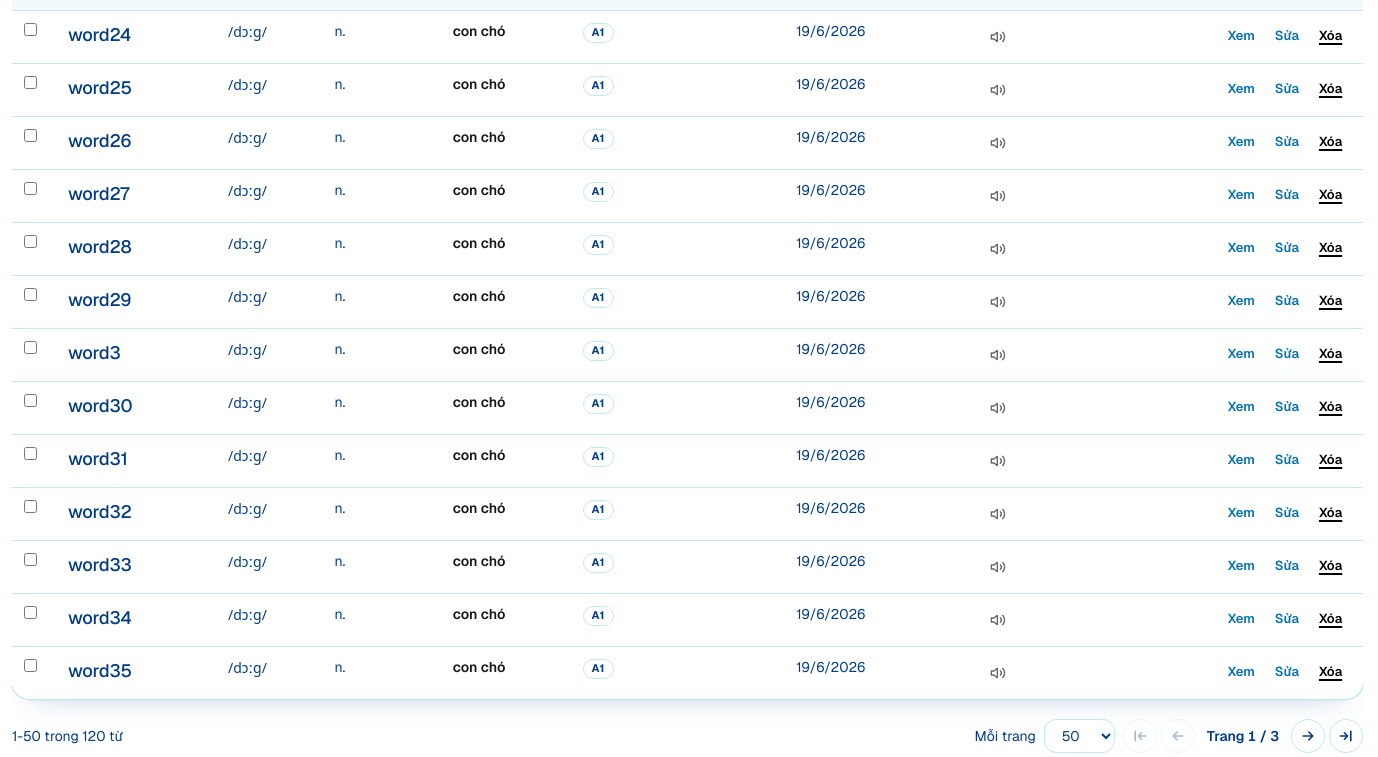
Scenario: WordlistClient › shows more rows per page on request
(page scrolled)
Select "100" in the dropdown named "Số từ mỗi trang": (1079, 736) [1044,719,1115,753]
(page scrolled)
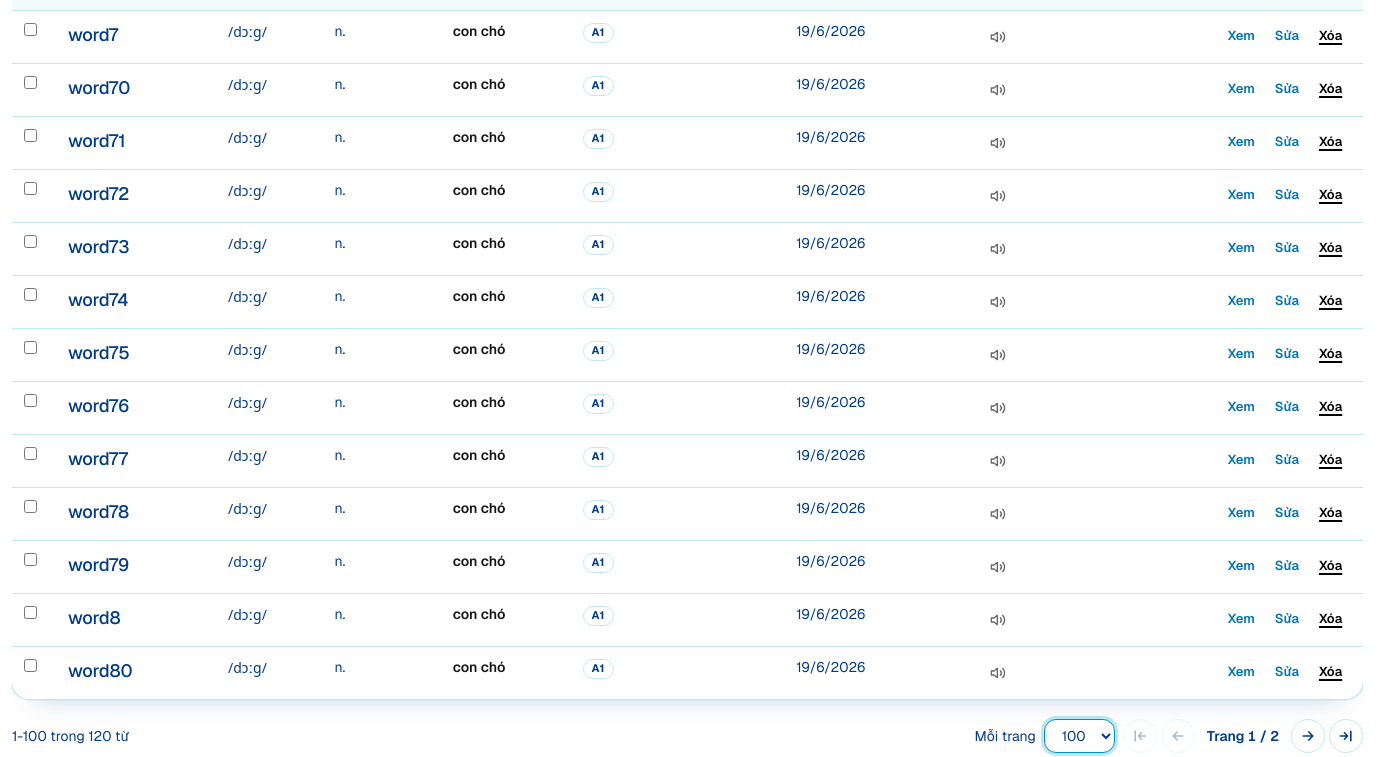
Expected: the text "1-100 trong 120 từ" is shown, [12,726,128,747]
